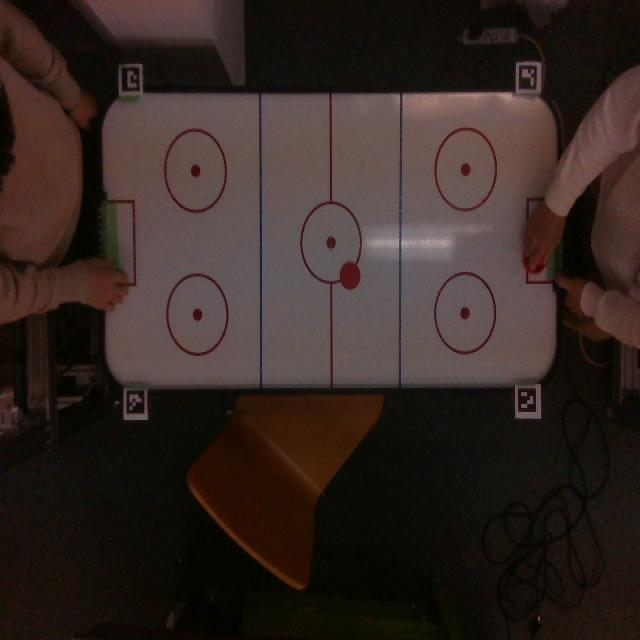puck: (339, 261, 361, 290)
